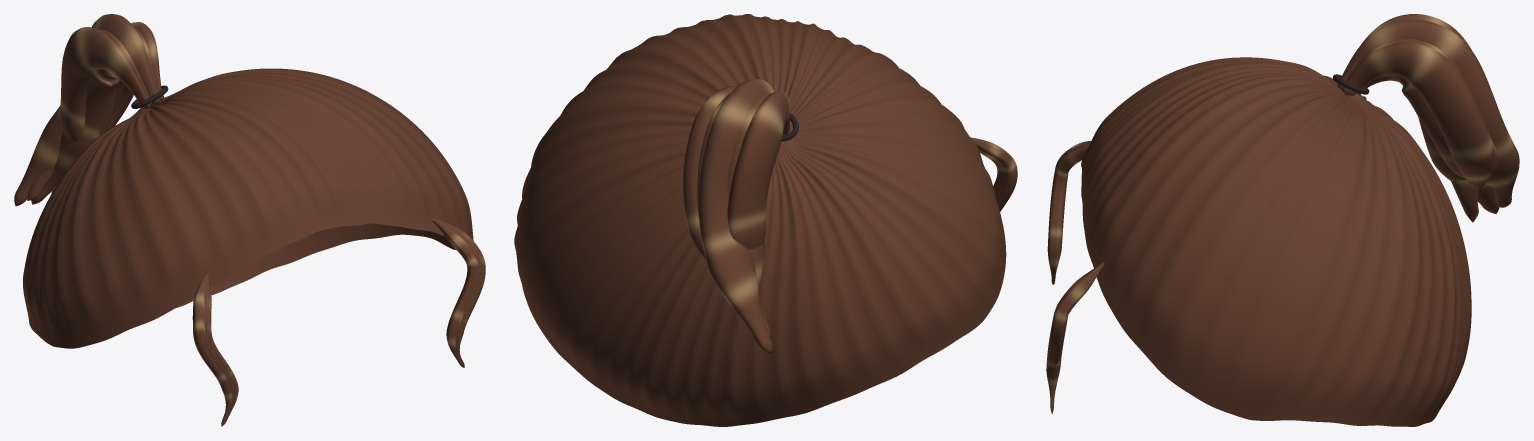
File: Highlights-764dfc05363c252-hair.glb
3 views of the same model, side by side, from view 1: azimuth 30°, elevation 25°; view 2: azimuth 150°, elevation 25°; view 3: azimuth 270°, elevation 25° (orthographic). The views are drawn at different scales.
Parts seen in each view (by area): view 1: Hair / swept roots220, Hair / rounded tail220 0, Hair / rounded tail220 2, Hair / rounded tail220 1, Hair / adjustable front216 1, Hair / adjustable front216 -1, Hair / rounded tail220 3, Hair / rounded tail220 4; view 2: Hair / swept roots220, Hair / rounded tail220 2, Hair / rounded tail220 0, Hair / rounded tail220 4, Hair / adjustable front216 -1, Hair / rounded tail220 1, Hair / rounded tail220 3; view 3: Hair / swept roots220, Hair / rounded tail220 4, Hair / rounded tail220 2, Hair / rounded tail220 3, Hair / adjustable front216 -1, Hair / adjustable front216 1, Hair / rounded tail220 0, Hair / rounded tail220 1.
Part boxes in pixels (x1,y1,x2,y2): Hair / swept roots220: (23,68,473,348); Hair / rounded tail220 0: (60,27,150,141); Hair / rounded tail220 2: (14,14,159,206); Hair / rounded tail220 1: (31,29,152,204); Hair / adjustable front216 1: (432,218,485,367); Hair / adjustable front216 -1: (192,273,238,426); Hair / rounded tail220 3: (27,26,160,200); Hair / rounded tail220 4: (51,22,164,193); Hair / swept roots220: (514,14,1006,426); Hair / rounded tail220 2: (698,79,774,353); Hair / rounded tail220 0: (727,91,790,329); Hair / rounded tail220 4: (683,86,736,260); Hair / adjustable front216 -1: (971,137,1017,211); Hair / rounded tail220 1: (727,92,782,346); Hair / rounded tail220 3: (697,93,770,338); Hair / swept roots220: (1081,57,1471,426); Hair / rounded tail220 4: (1342,42,1494,200); Hair / rounded tail220 2: (1337,19,1519,207); Hair / rounded tail220 3: (1342,38,1498,178); Hair / adjustable front216 -1: (1047,141,1091,284); Hair / adjustable front216 1: (1046,262,1104,413); Hair / rounded tail220 0: (1361,14,1479,222); Hair / rounded tail220 1: (1418,117,1499,213).
Size of the model in its own units: 0.9675 by 0.7217 by 0.8977.
9 materials, 8 textured.
